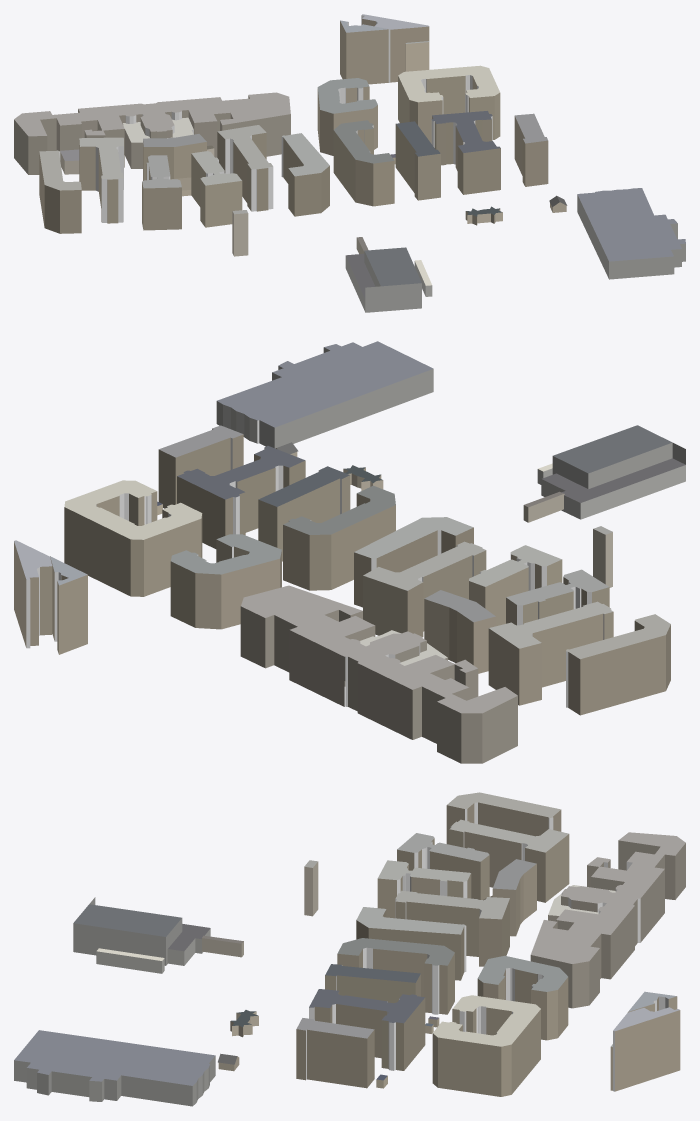
3 renders of one model, top to bottom at view 1: azimuth 30°, elevation 25°; view 2: azimuth 150°, elevation 25°; view 3: azimuth 270°, elevation 25°, orthographic. The views are drawn at different scales.
Parts seen in each view (by area): view 1: tuile; view 2: tuile; view 3: tuile.
Boxes of the visible parts, <box> form: tuile: <box>14,14,685,312</box>; tuile: <box>14,341,685,763</box>; tuile: <box>14,792,685,1106</box>.
Size of the model in its own units: 269 by 31.58 by 290.
